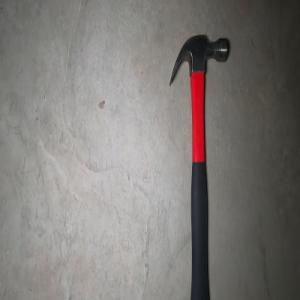Hammer: (168, 32, 229, 300)
